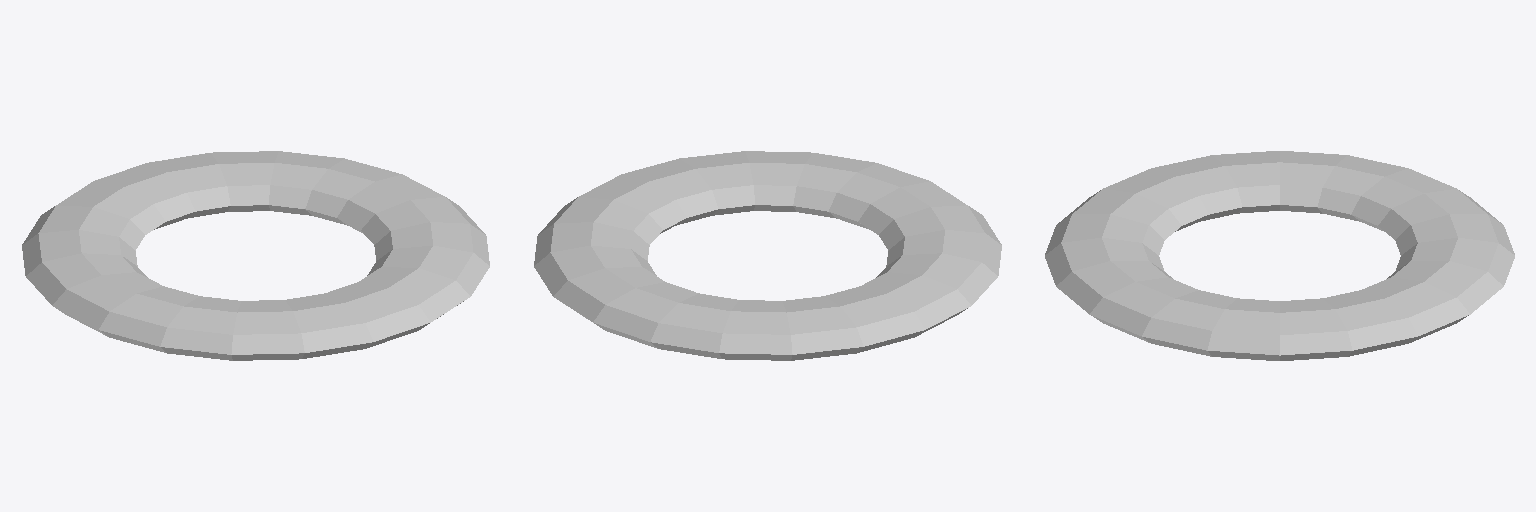
The model's file is twirl.obj.
The picture shows the model from 3 angles: view 1: azimuth 30°, elevation 25°; view 2: azimuth 150°, elevation 25°; view 3: azimuth 270°, elevation 25°; orthographic projection.
Parts seen in each view (by area): view 1: default; view 2: default; view 3: default.
Part boxes in pixels (left/top/right/bottom): default: left=22, top=151, right=489, bottom=360; default: left=534, top=151, right=1001, bottom=360; default: left=1045, top=151, right=1514, bottom=360.
Bounding box in the file's own units: 5.35 × 0.4613 × 5.35.